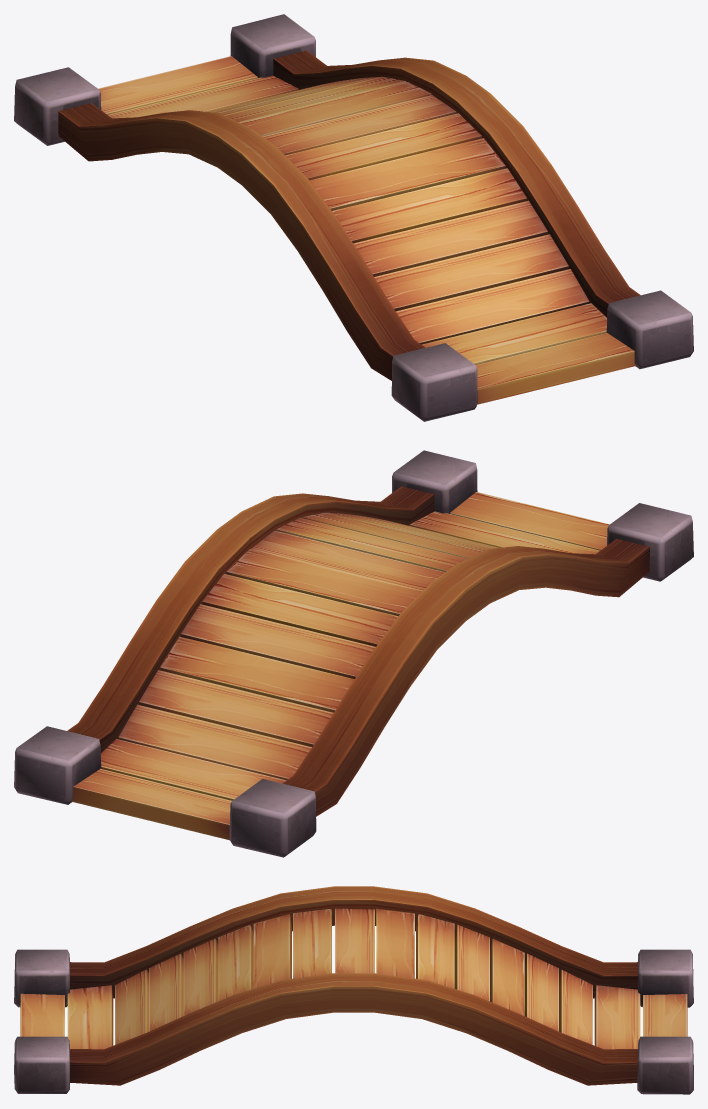
Rendered from SE_Bridge_03.fbx.
3 views of the same model, one above another, from view 1: azimuth 30°, elevation 25°; view 2: azimuth 150°, elevation 25°; view 3: azimuth 270°, elevation 25° (orthographic). The views are drawn at different scales.
Visible parts, largest first — view 1: SE_Bridge_03; view 2: SE_Bridge_03; view 3: SE_Bridge_03.
Boxes of the visible parts, x1=… form: SE_Bridge_03: x1=14, y1=14, x2=693, y2=421; SE_Bridge_03: x1=14, y1=450, x2=693, y2=857; SE_Bridge_03: x1=14, y1=886, x2=693, y2=1094.
Size of the model in its own units: 6.28 by 2.76 by 16.31.
